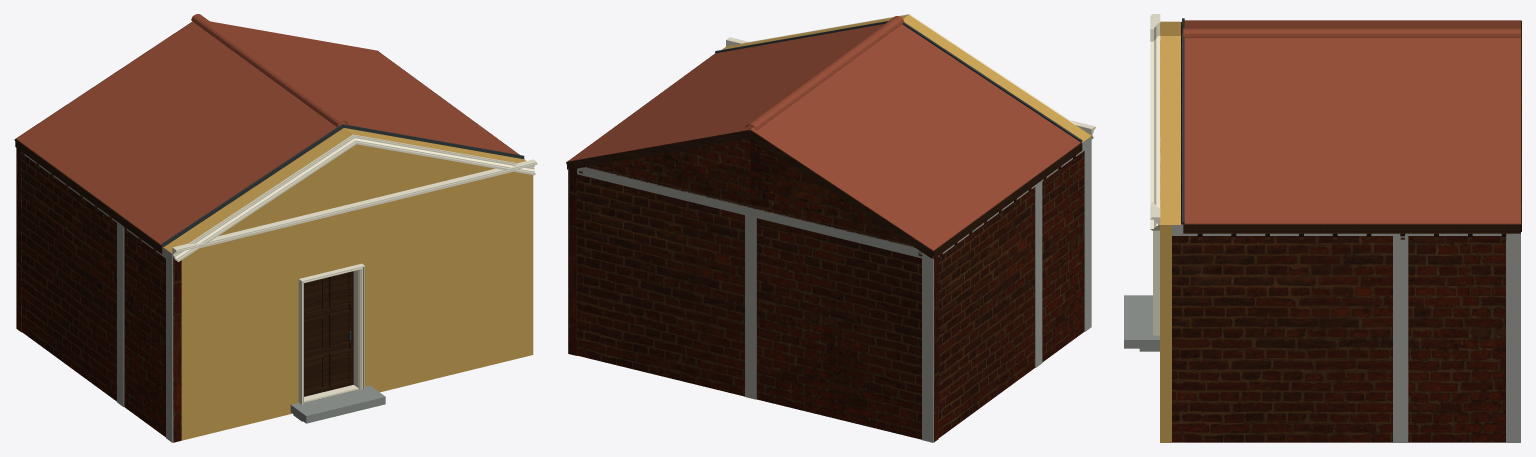
File: building.glb
3 views of the same model, side by side, from view 1: azimuth 30°, elevation 25°; view 2: azimuth 150°, elevation 25°; view 3: azimuth 270°, elevation 25° (orthographic). The views are drawn at different scales.
Visible parts, largest first — view 1: house:0/edge0/z0/house:0/edge0/z0/wall_0_0, house:0/edge3/z0/house:0/edge3/z0/wall_0_0, crown/fronton/crown_body#0001, crown/fronton/crown_moulding#0001, crown/fronton/crown_base_cornice#0001, site/entrance/0/entrance_step#0002, house:0/edge3/z0/house:0/edge3/z0/column_2_0, house:0/edge3/z0/house:0/edge3/z0/column_1_0, roof_assembly/cubierta/roof_fascia#0002, house:0/edge2/z0/house:0/edge2/z0/wall_0_0, house:0/edge0/z0/opening_u2.80_v0.12/door_panel_back#0001, roof_assembly/cubierta/roof_crown_flashing#0001 (+11 smaller); view 2: house:0/edge2/z0/house:0/edge2/z0/wall_0_0, house:0/edge3/z0/house:0/edge3/z0/wall_0_0, roof_assembly/cubierta/roof_gable_closure#0004, roof_assembly/cubierta/roof_gable_closure#0001, house:0/edge2/z0/house:0/edge2/z0/beam_0_0, house:0/edge2/z0/house:0/edge2/z0/column_1_0, house:0/edge2/z0/house:0/edge2/z0/column_2_0, crown/fronton/crown_body#0001, house:0/edge1/z0/house:0/edge1/z0/wall_0_0, roof_assembly/cubierta/roof_fascia#0001, roof_assembly/cubierta/roof_fascia#0003, house:0/edge3/z0/house:0/edge3/z0/column_1_0 (+6 smaller); view 3: house:0/edge1/z0/house:0/edge1/z0/wall_0_0, crown/fronton/crown_body#0001, roof_assembly/cubierta/roof_fascia#0004, house:0/edge1/z0/house:0/edge1/z0/column_2_0, house:0/edge1/z0/house:0/edge1/z0/column_1_0, house:0/edge0/z0/house:0/edge0/z0/wall_0_0, crown/fronton/crown_moulding#0001, site/entrance/0/entrance_step#0002, house:0/edge1/z0/house:0/edge1/z0/beam_0_0, crown/fronton/crown_rim#0001, house:0/edge0/z0/opening_u2.80_v0.12/door_moulding#0028, roof_assembly/cubierta/roof_crown_flashing#0002.
Part boxes in pixels (box(x1,y1,x2,y2)): house:0/edge0/z0/house:0/edge0/z0/wall_0_0: box(181, 171, 533, 440); house:0/edge3/z0/house:0/edge3/z0/wall_0_0: box(22, 154, 181, 442); crown/fronton/crown_body#0001: box(163, 128, 525, 252); crown/fronton/crown_moulding#0001: box(172, 134, 535, 261); crown/fronton/crown_base_cornice#0001: box(172, 159, 537, 254); site/entrance/0/entrance_step#0002: box(290, 385, 385, 423); house:0/edge3/z0/house:0/edge3/z0/column_2_0: box(117, 223, 124, 406); house:0/edge3/z0/house:0/edge3/z0/column_1_0: box(166, 259, 173, 442); roof_assembly/cubierta/roof_fascia#0002: box(15, 139, 162, 253); house:0/edge2/z0/house:0/edge2/z0/wall_0_0: box(16, 148, 21, 332); house:0/edge0/z0/opening_u2.80_v0.12/door_panel_back#0001: box(304, 277, 348, 386); roof_assembly/cubierta/roof_crown_flashing#0001: box(161, 124, 343, 246); house:0/edge2/z0/house:0/edge2/z0/wall_0_0: box(577, 174, 938, 442); house:0/edge3/z0/house:0/edge3/z0/wall_0_0: box(938, 151, 1084, 437); roof_assembly/cubierta/roof_gable_closure#0004: box(587, 138, 750, 207); roof_assembly/cubierta/roof_gable_closure#0001: box(750, 139, 914, 247); house:0/edge2/z0/house:0/edge2/z0/beam_0_0: box(577, 167, 933, 261); house:0/edge2/z0/house:0/edge2/z0/column_1_0: box(922, 258, 933, 442); house:0/edge2/z0/house:0/edge2/z0/column_2_0: box(745, 215, 756, 399); crown/fronton/crown_body#0001: box(722, 15, 1090, 142); house:0/edge1/z0/house:0/edge1/z0/wall_0_0: box(568, 168, 577, 355); roof_assembly/cubierta/roof_fascia#0001: box(749, 131, 934, 258); roof_assembly/cubierta/roof_fascia#0003: box(566, 130, 750, 169); house:0/edge3/z0/house:0/edge3/z0/column_1_0: box(1084, 145, 1091, 331); house:0/edge1/z0/house:0/edge1/z0/wall_0_0: box(1172, 220, 1505, 442); crown/fronton/crown_body#0001: box(1163, 21, 1180, 225); roof_assembly/cubierta/roof_fascia#0004: box(1183, 224, 1520, 233); house:0/edge1/z0/house:0/edge1/z0/column_2_0: box(1393, 236, 1408, 442); house:0/edge1/z0/house:0/edge1/z0/column_1_0: box(1506, 236, 1520, 442); house:0/edge0/z0/house:0/edge0/z0/wall_0_0: box(1160, 225, 1171, 442); crown/fronton/crown_moulding#0001: box(1150, 23, 1160, 230); site/entrance/0/entrance_step#0002: box(1124, 295, 1159, 348); house:0/edge1/z0/house:0/edge1/z0/beam_0_0: box(1172, 224, 1520, 235); crown/fronton/crown_rim#0001: box(1160, 21, 1163, 224); house:0/edge0/z0/opening_u2.80_v0.12/door_moulding#0028: box(1153, 230, 1159, 335); roof_assembly/cubierta/roof_crown_flashing#0002: box(1182, 33, 1184, 224).
Size of the model in its own units: 8.06 by 5.76 by 6.62.
Materials: 9 (2 with a texture image).
